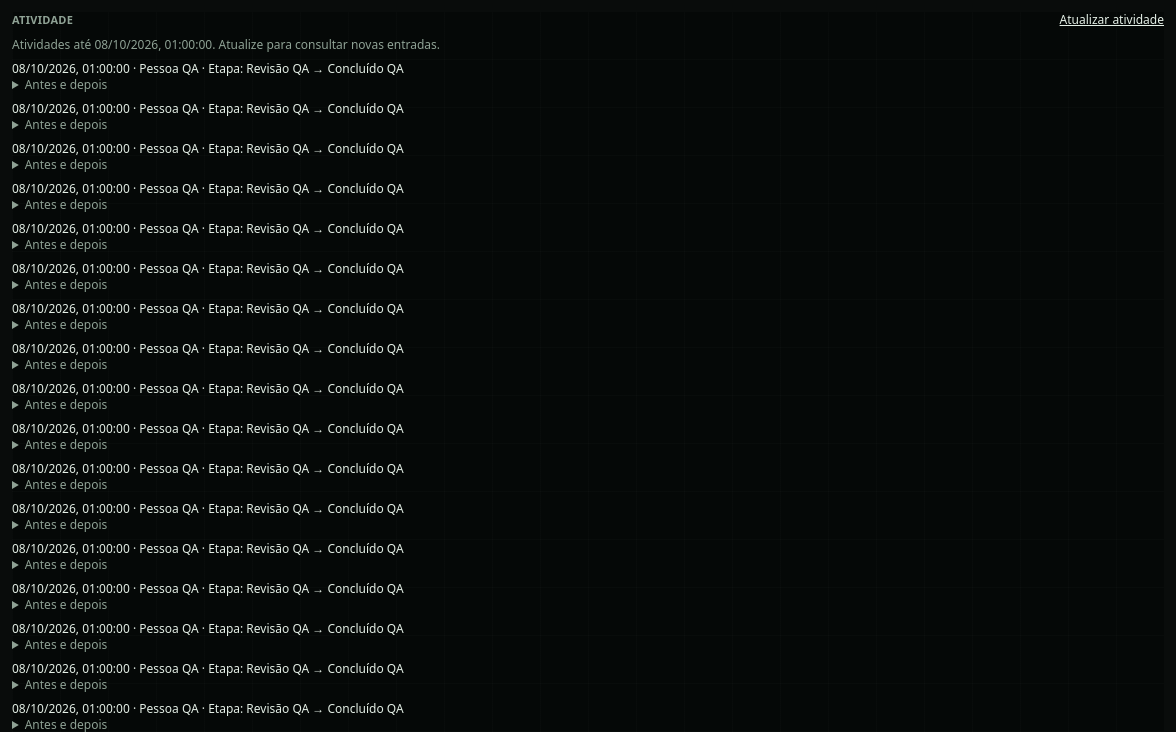
Scenario: M02: atividade paginada da tarefa, API simulada › atualizar recomeça sem cursor e troca a janela por uma âncora nova
The image size is (1176, 732).
Step 1. Click the button "Atualizar atividade" → (1112, 20), box [1060,12,1164,28]
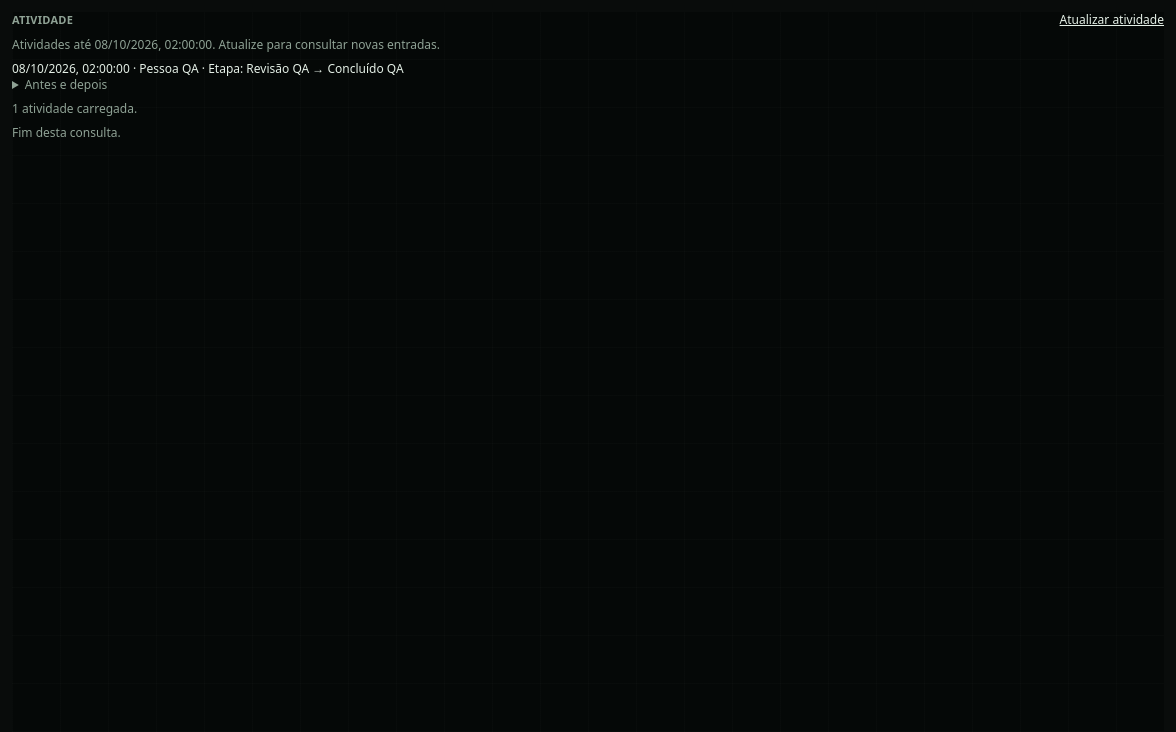
Expected: the text "1 atividade carregada." is shown, [12,100,137,116]
